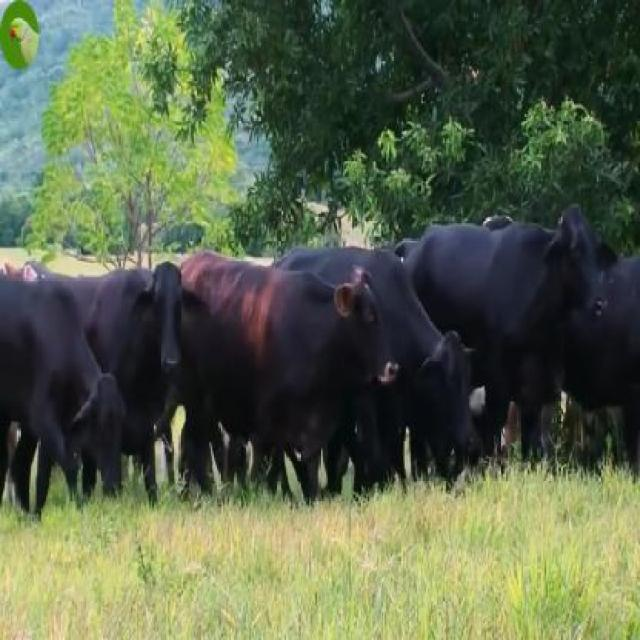Cow: (420, 205, 617, 472), (106, 260, 202, 445)
